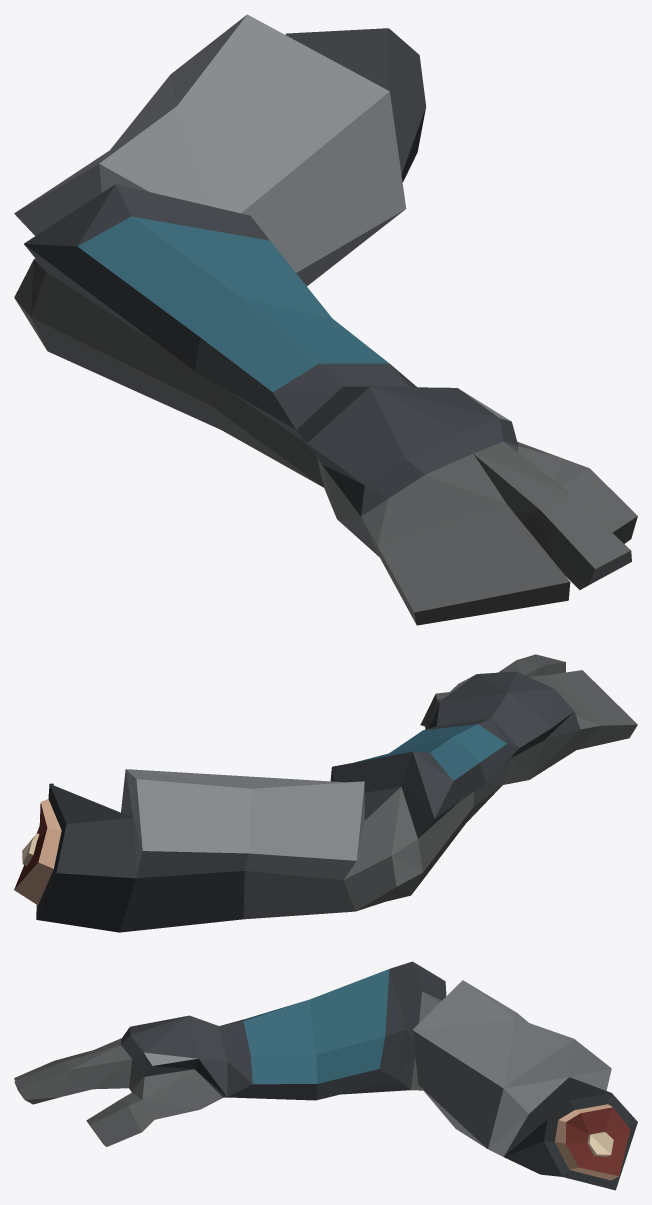
The model's file is kingdom_SM_Prop_Dead_Arm_01.gltf.
3 views of the same model, one above another, from view 1: azimuth 30°, elevation 25°; view 2: azimuth 150°, elevation 25°; view 3: azimuth 270°, elevation 25° (orthographic). The views are drawn at different scales.
Parts seen in each view (by area): view 1: SM_Prop_Dead_Arm_01; view 2: SM_Prop_Dead_Arm_01; view 3: SM_Prop_Dead_Arm_01.
Part boxes in pixels (left/top/right/bottom): SM_Prop_Dead_Arm_01: left=14, top=14, right=637, bottom=625; SM_Prop_Dead_Arm_01: left=14, top=654, right=637, bottom=932; SM_Prop_Dead_Arm_01: left=14, top=961, right=637, bottom=1190.
Bounding box in the file's own units: 0.3578 × 0.156 × 0.6924.
1 material, 1 textured.
